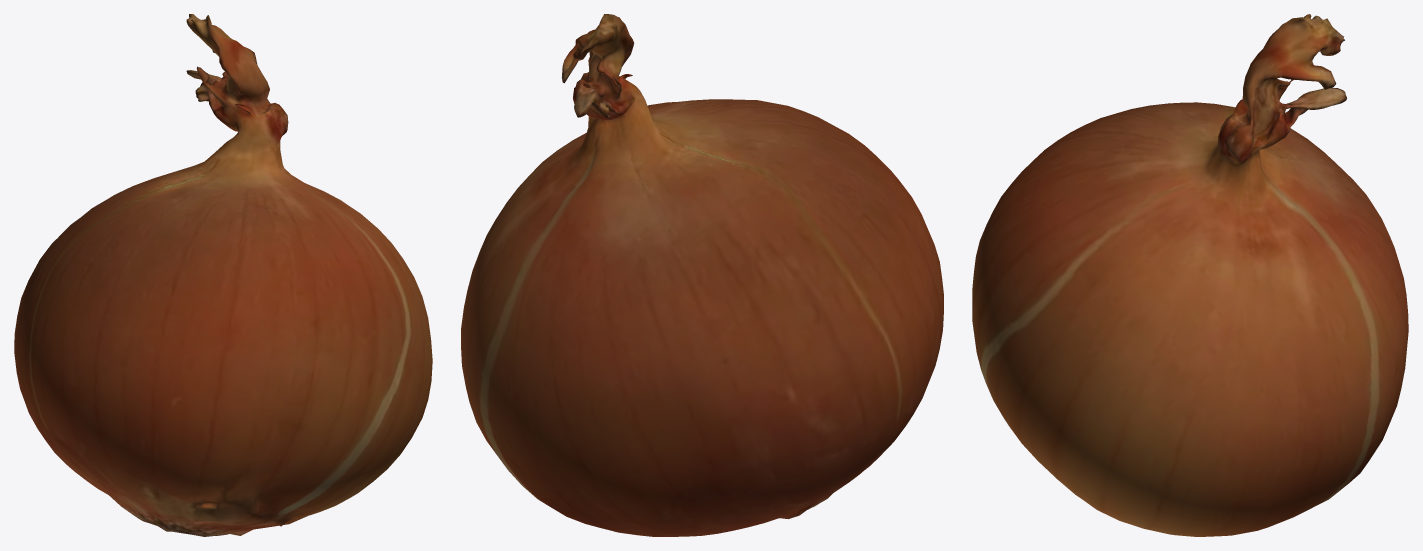
The model's file is yellow_onion.glb.
3 renders of one model, left to right at view 1: azimuth 30°, elevation 25°; view 2: azimuth 150°, elevation 25°; view 3: azimuth 270°, elevation 25°, orthographic. The views are drawn at different scales.
Parts seen in each view (by area): view 1: yellow_onion; view 2: yellow_onion; view 3: yellow_onion.
Part boxes in pixels (x1,y1,x2,y2): yellow_onion: (14, 14, 432, 536); yellow_onion: (461, 14, 943, 536); yellow_onion: (972, 14, 1408, 536).
Size of the model in its own units: 0.0725 by 0.0864 by 0.0686.
1 material, 1 textured.
